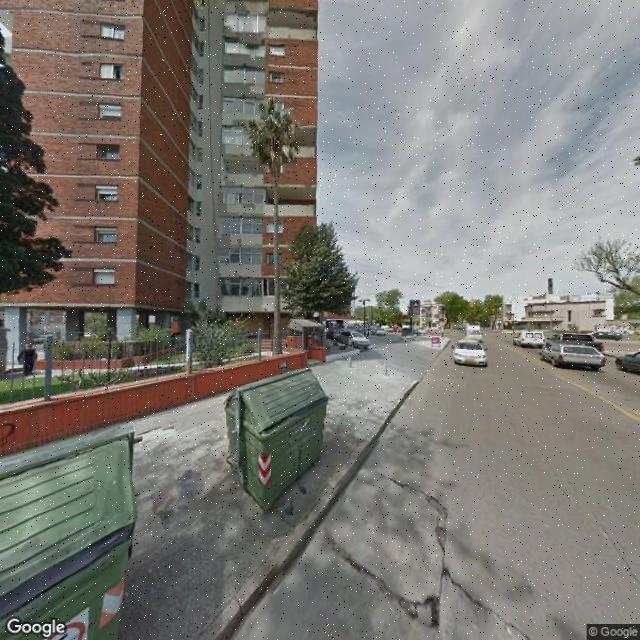garbage container: (2, 425, 156, 638), (219, 363, 343, 521)
